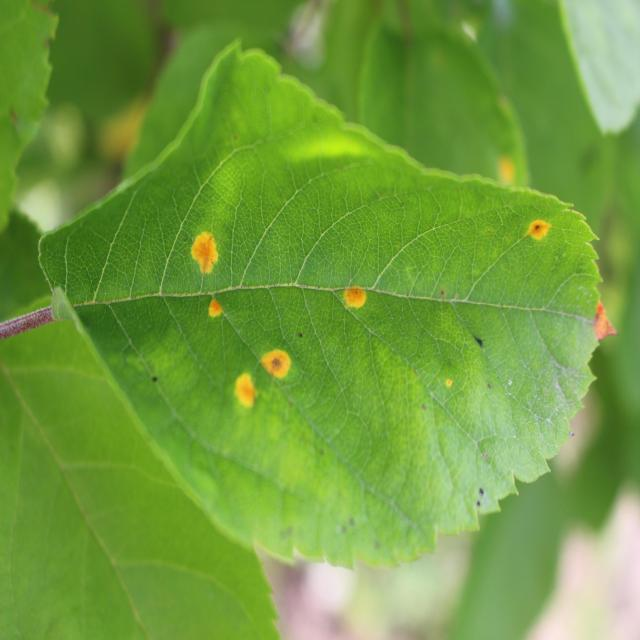Rust: (325, 277, 377, 324), (184, 220, 224, 281), (262, 340, 296, 390), (234, 361, 262, 417), (520, 210, 554, 252), (208, 294, 226, 327), (436, 374, 459, 398)
